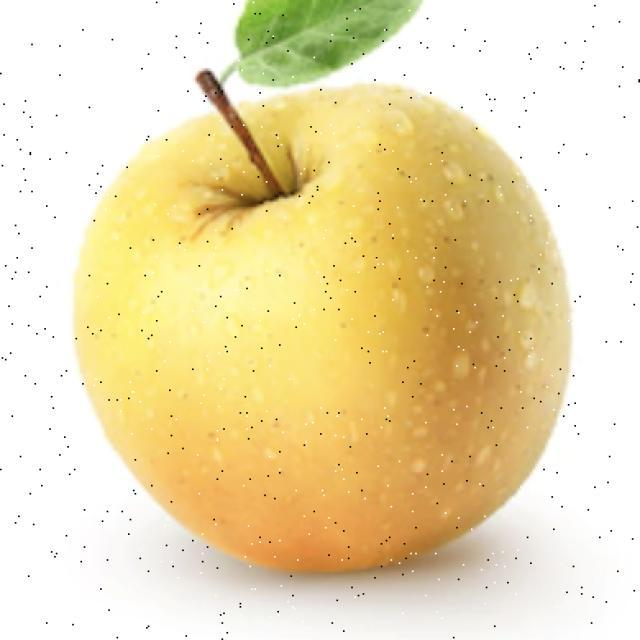Apple: (72, 70, 572, 574)
